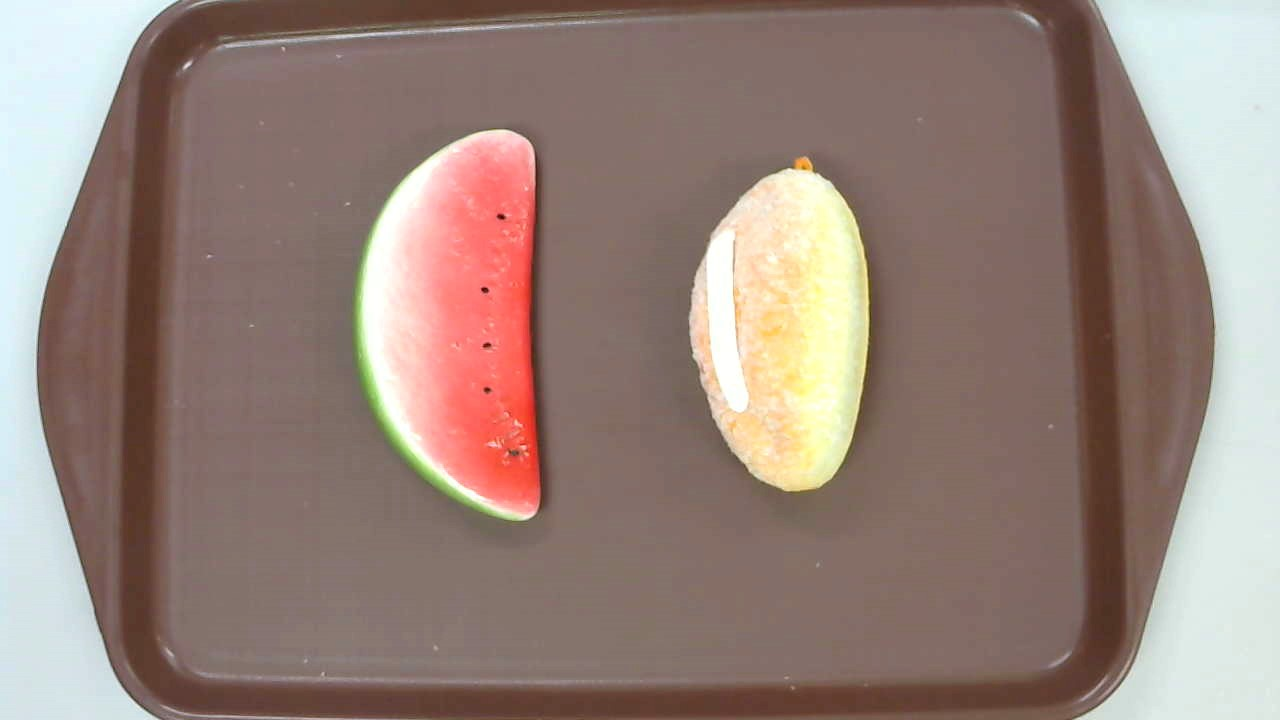coconut: (688, 156, 868, 490)
water melon: (353, 128, 541, 521)
